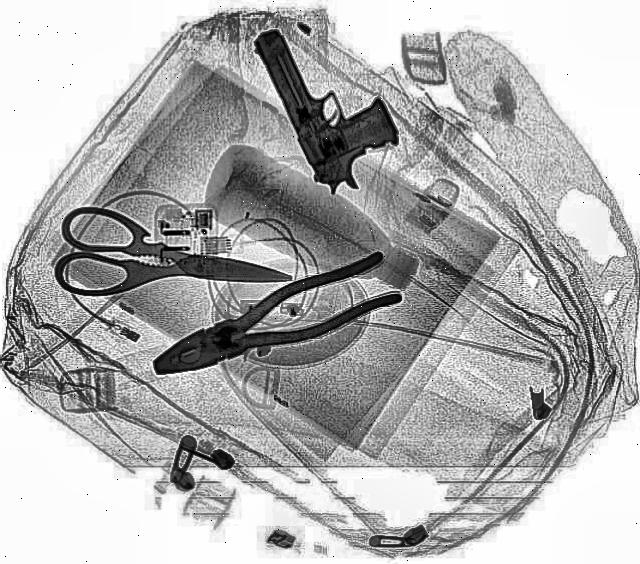Gun: (244, 7, 420, 199)
Pliers: (139, 246, 413, 394)
Scissors: (49, 201, 303, 321)
